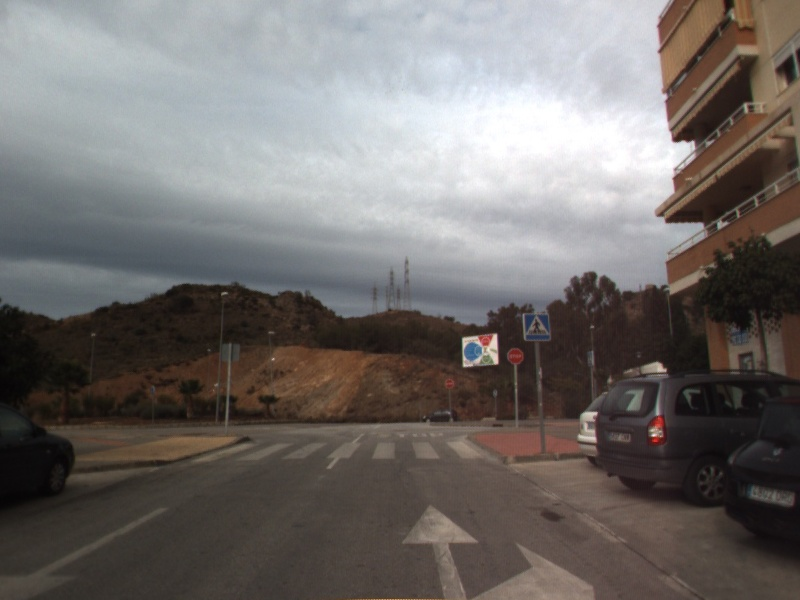STRAIGHT_RIGHT: (398, 501, 599, 600)
